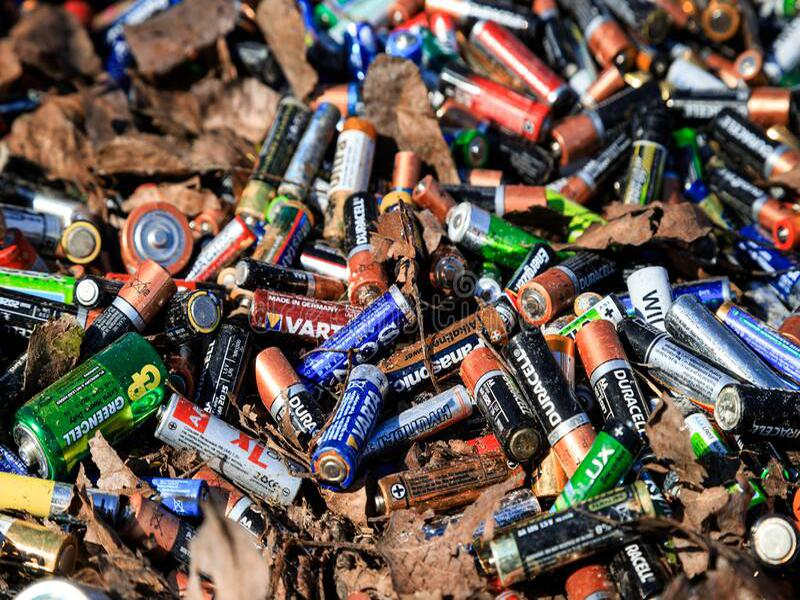battery: (6, 327, 174, 486), (475, 477, 662, 590), (147, 384, 308, 510), (298, 282, 417, 382), (562, 319, 657, 444), (304, 362, 392, 495), (454, 346, 548, 466), (458, 19, 576, 111), (435, 64, 559, 144), (508, 248, 629, 327), (370, 454, 524, 510), (335, 184, 395, 313)
